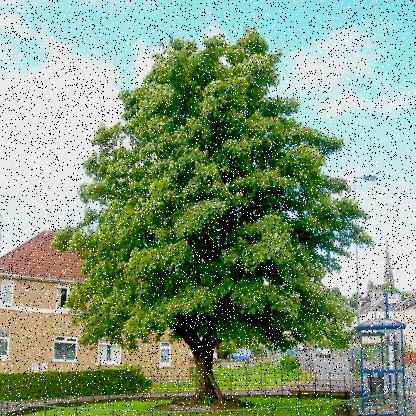Tree: (54, 25, 358, 402)
